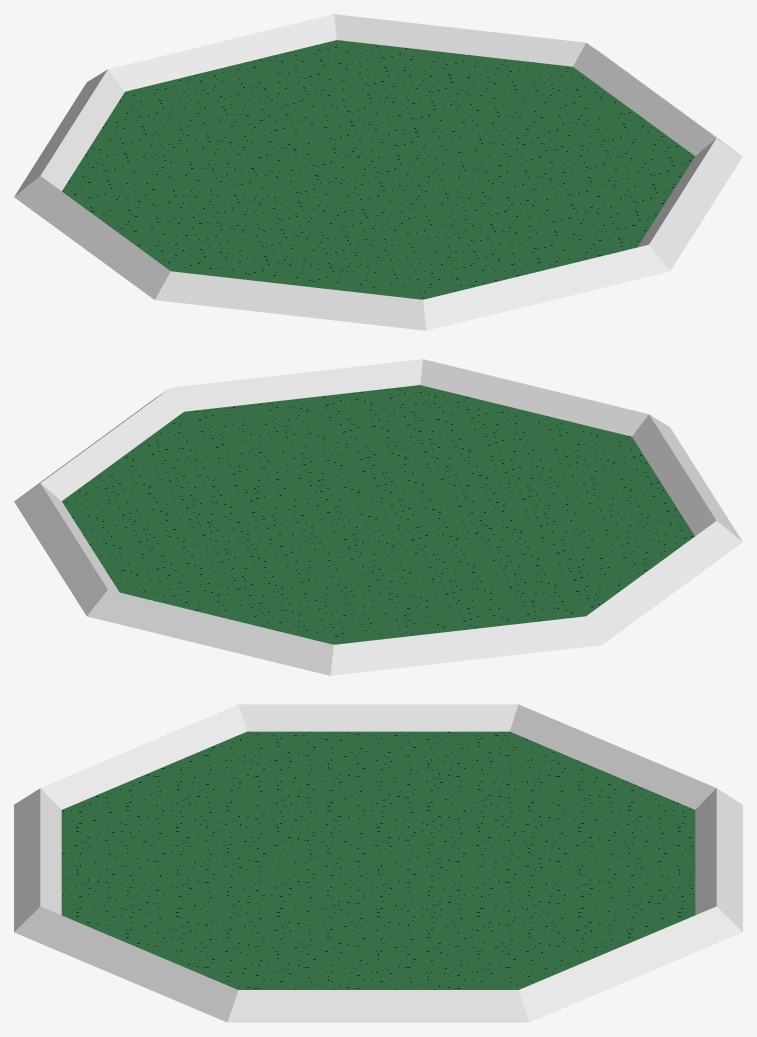
Rendered from Table.fbx.
The picture shows the model from 3 angles, top to bottom: view 1: azimuth 30°, elevation 25°; view 2: azimuth 150°, elevation 25°; view 3: azimuth 270°, elevation 25°; orthographic projection. The views are drawn at different scales.
Visible parts, largest first — view 1: Table; view 2: Table; view 3: Table.
Boxes of the visible parts, x1,y1,x2,y2 form: Table: (14,14,742,330); Table: (14,359,742,675); Table: (14,704,742,1022).
Bounding box in the file's own units: 213 × 6.87 × 213.
